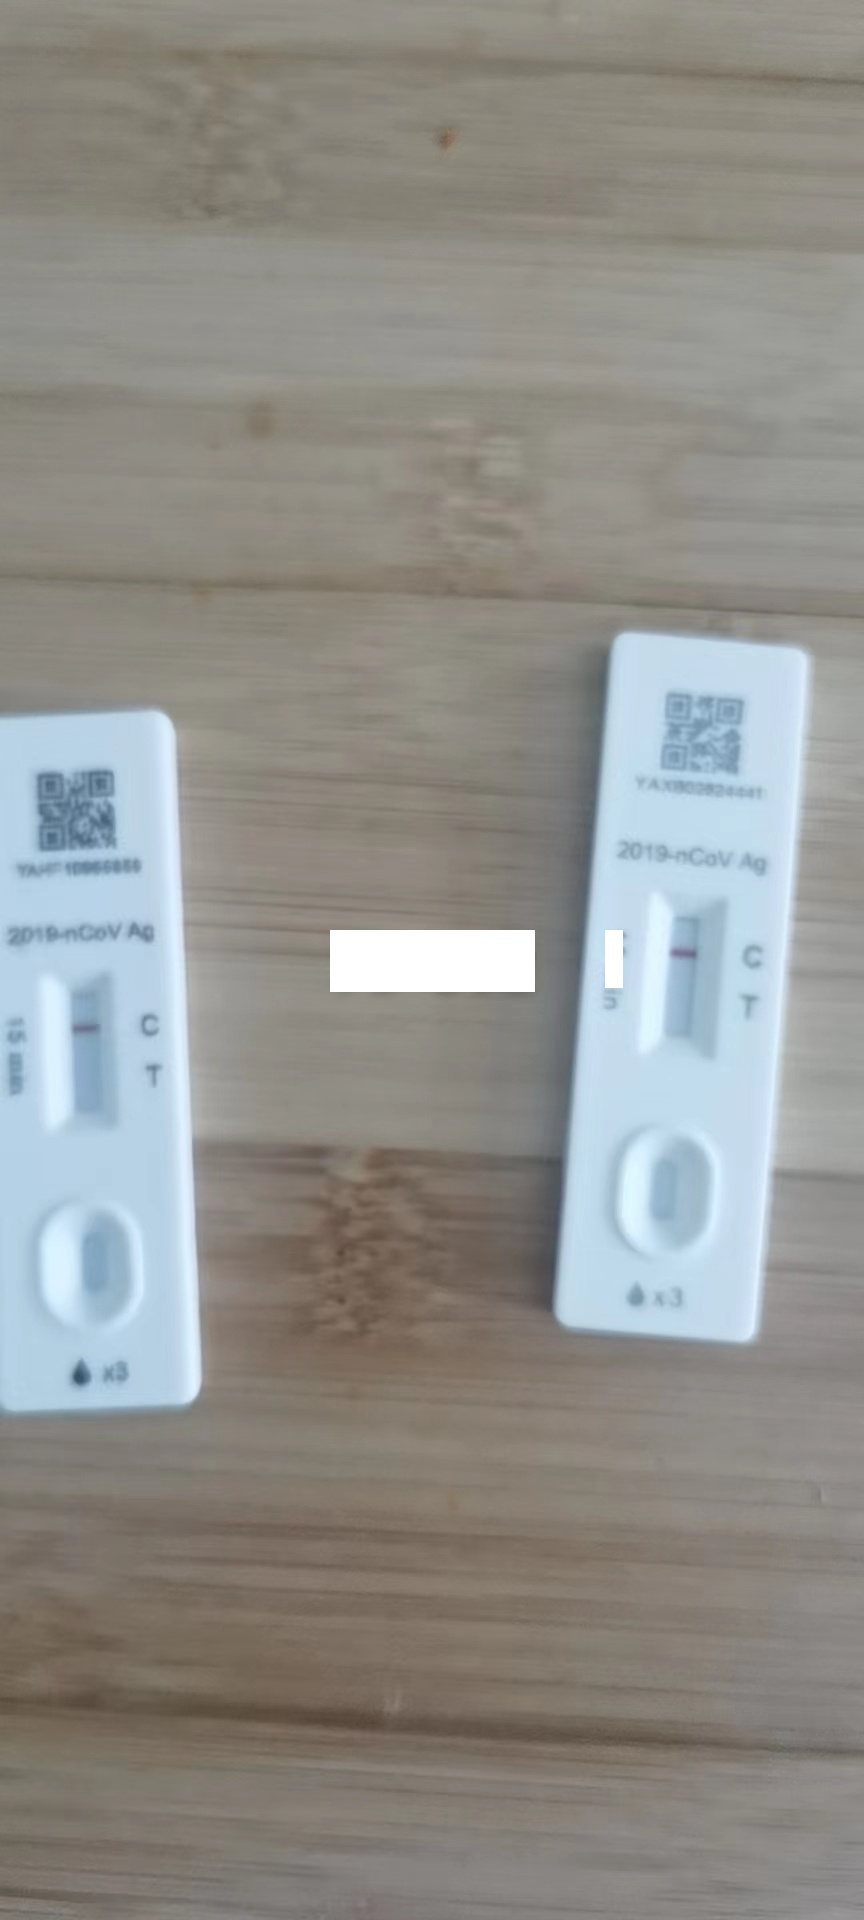negative: (649, 900, 721, 1057), (49, 973, 115, 1127)
